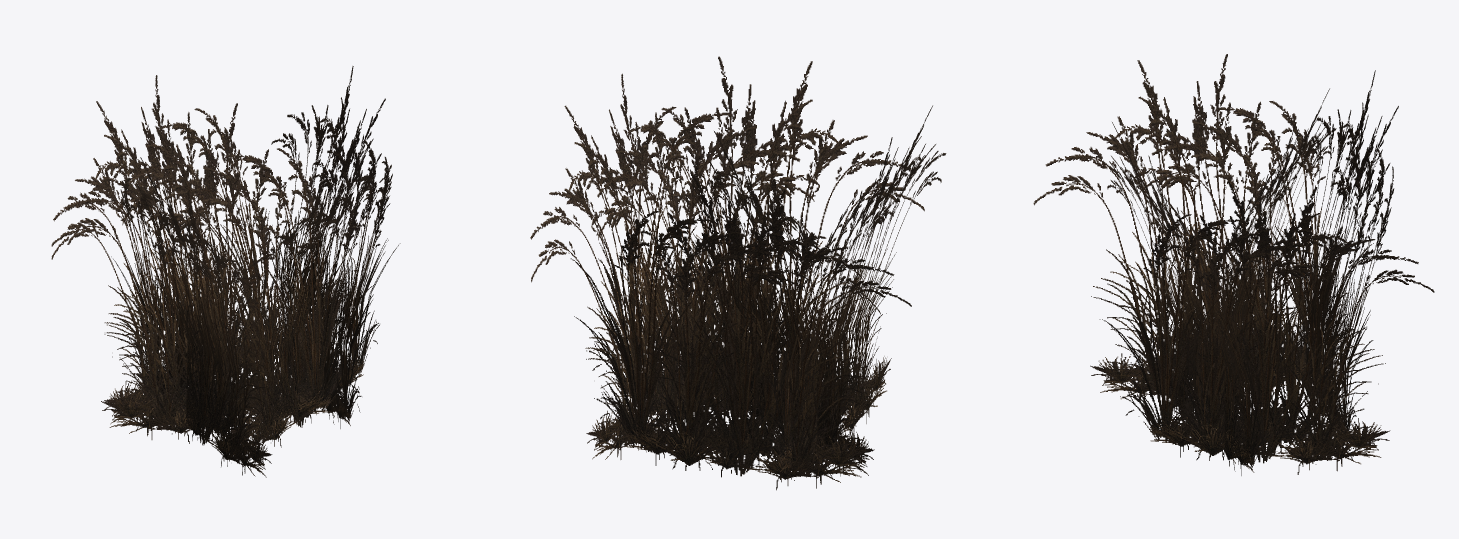
File: grass_3.glb
3 renders of one model, left to right at view 1: azimuth 30°, elevation 25°; view 2: azimuth 150°, elevation 25°; view 3: azimuth 270°, elevation 25°, orthographic. The views are drawn at different scales.
Visible parts, largest first — view 1: grass_3; view 2: grass_3; view 3: grass_3.
Boxes of the visible parts, box(x1,y1,x2,y2) form: grass_3: box(51, 66, 400, 477); grass_3: box(530, 56, 946, 490); grass_3: box(1033, 54, 1434, 475).
Size of the model in its own units: 1.24 by 1.04 by 1.16.
1 material, 1 textured.
